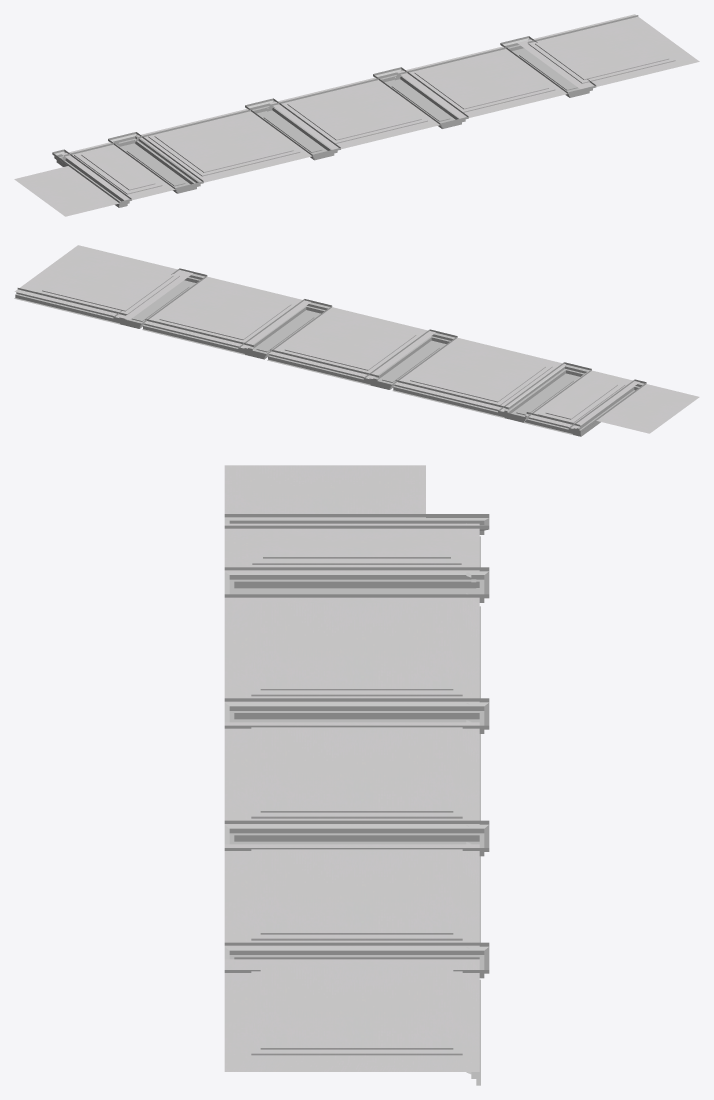
The model's file is SM_Ceiling_5.fbx.
3 views of the same model, one above another, from view 1: azimuth 30°, elevation 25°; view 2: azimuth 150°, elevation 25°; view 3: azimuth 270°, elevation 25° (orthographic). The views are drawn at different scales.
Parts seen in each view (by area): view 1: SM_Ceiling_5; view 2: SM_Ceiling_5; view 3: SM_Ceiling_5.
Part boxes in pixels (left/top/right/bottom): SM_Ceiling_5: left=14, top=14, right=699, bottom=216; SM_Ceiling_5: left=14, top=245, right=699, bottom=436; SM_Ceiling_5: left=224, top=465, right=489, bottom=1085.
Bounding box in the file's own units: 2048 × 377 × 26.93.
